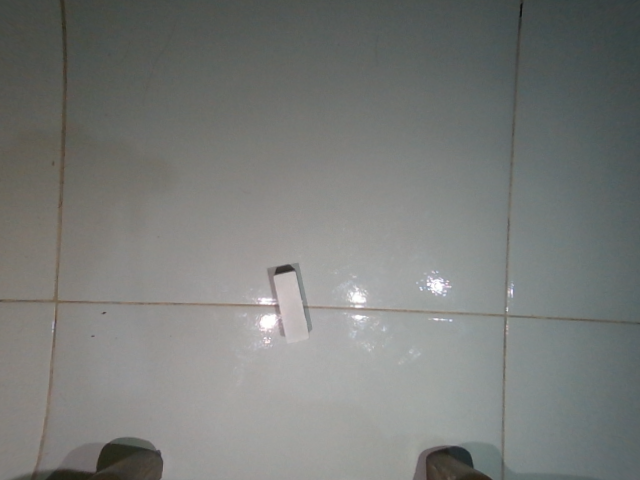Balok-Putih: (268, 271, 313, 343)
